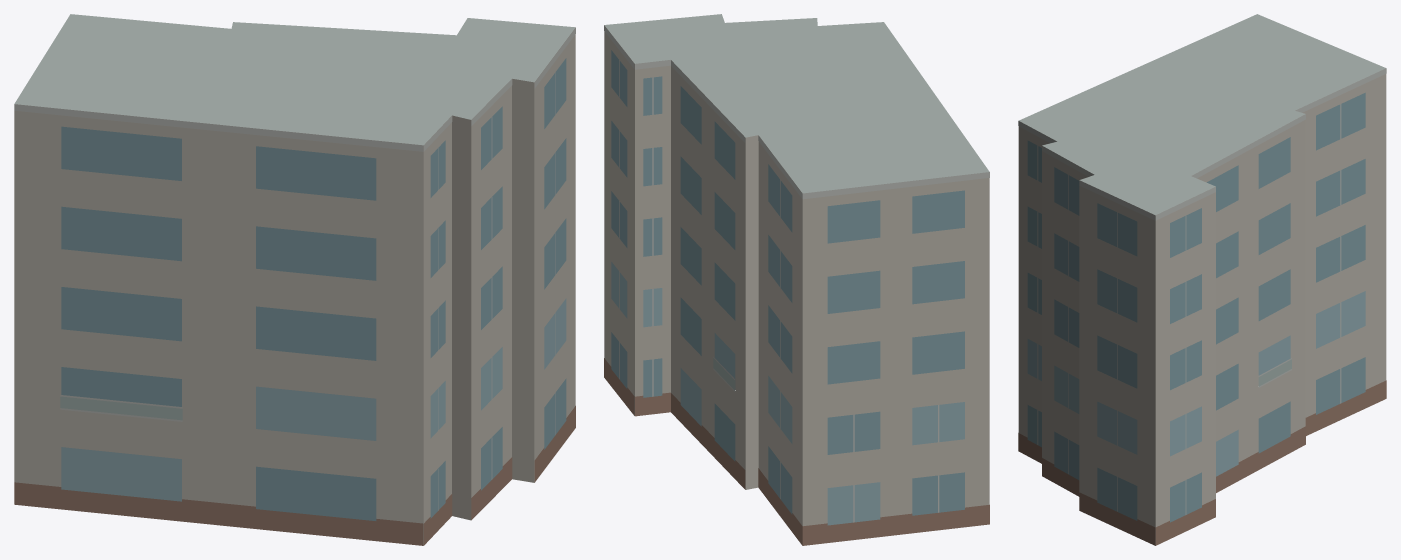
The model's file is survey-upis-32930694.glb.
3 views of the same model, side by side, from view 1: azimuth 30°, elevation 25°; view 2: azimuth 150°, elevation 25°; view 3: azimuth 270°, elevation 25° (orthographic). The views are drawn at different scales.
Visible parts, largest first — view 1: survey-upis-32930694.tmp; view 2: survey-upis-32930694.tmp; view 3: survey-upis-32930694.tmp.
Part boxes in pixels (left/top/right/bottom): survey-upis-32930694.tmp: left=14, top=14, right=575, bottom=545; survey-upis-32930694.tmp: left=604, top=14, right=989, bottom=545; survey-upis-32930694.tmp: left=1018, top=14, right=1386, bottom=545.
Size of the model in its own units: 19.21 by 14.7 by 14.83.
